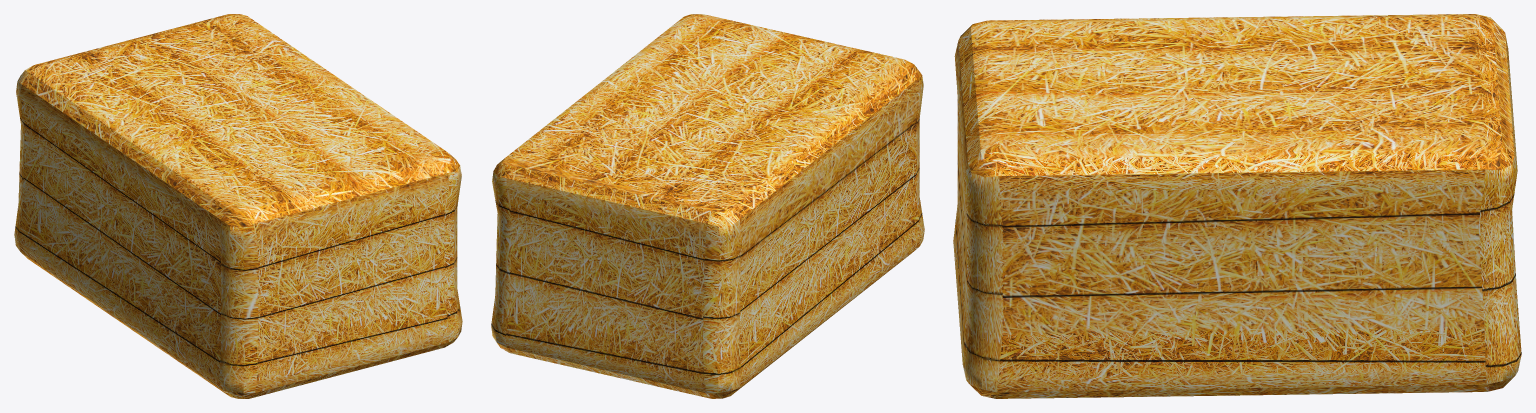
The model's file is NewHay.fbx.
3 renders of one model, left to right at view 1: azimuth 30°, elevation 25°; view 2: azimuth 150°, elevation 25°; view 3: azimuth 270°, elevation 25°, orthographic. The views are drawn at different scales.
Visible parts, largest first — view 1: NewHay; view 2: NewHay; view 3: NewHay.
Boxes of the visible parts, x1=… form: NewHay: x1=14, y1=14, x2=462, y2=398; NewHay: x1=491, y1=14, x2=924, y2=398; NewHay: x1=953, y1=14, x2=1521, y2=398.
Size of the model in its own units: 255 by 186 by 386.
